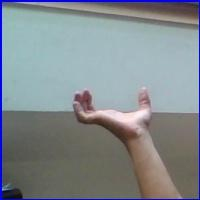space: (64, 76, 165, 151)
